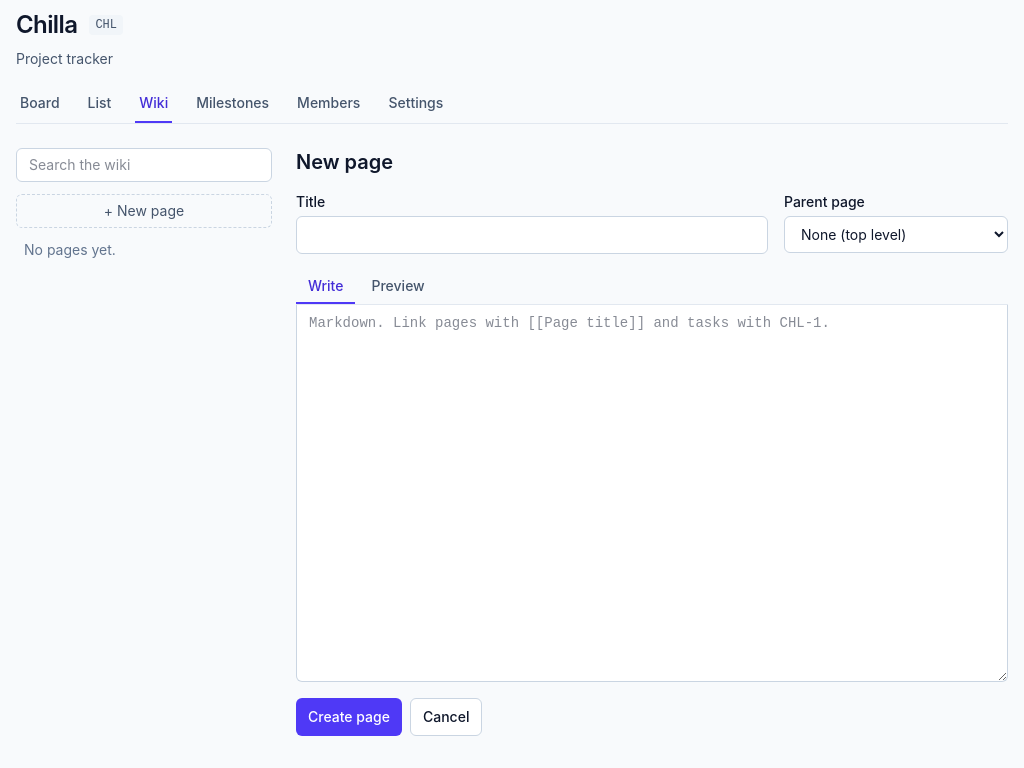
Test: writing mentions › suggests members in the wiki editor and keeps the draft in step
(page scrolled)
Type "Lead: @an" into the text box named "Content" at (652, 494), box [296,305,1008,682]
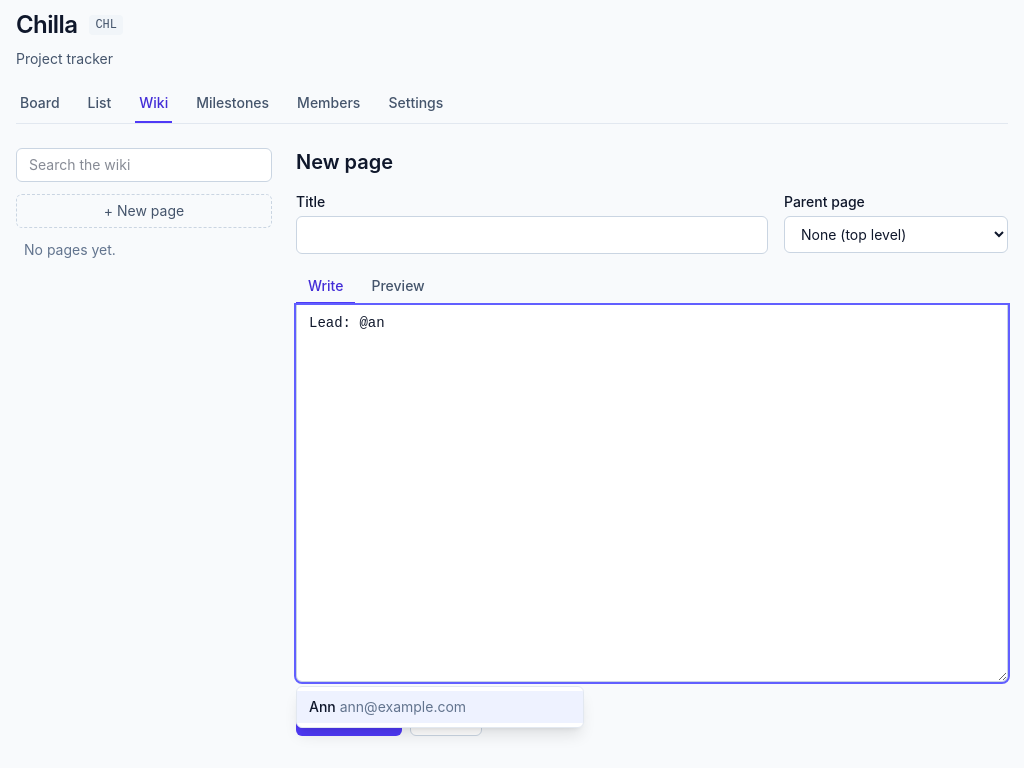
Click the option "Ann ann@example.com" at (440, 707), box [297,691,583,723]
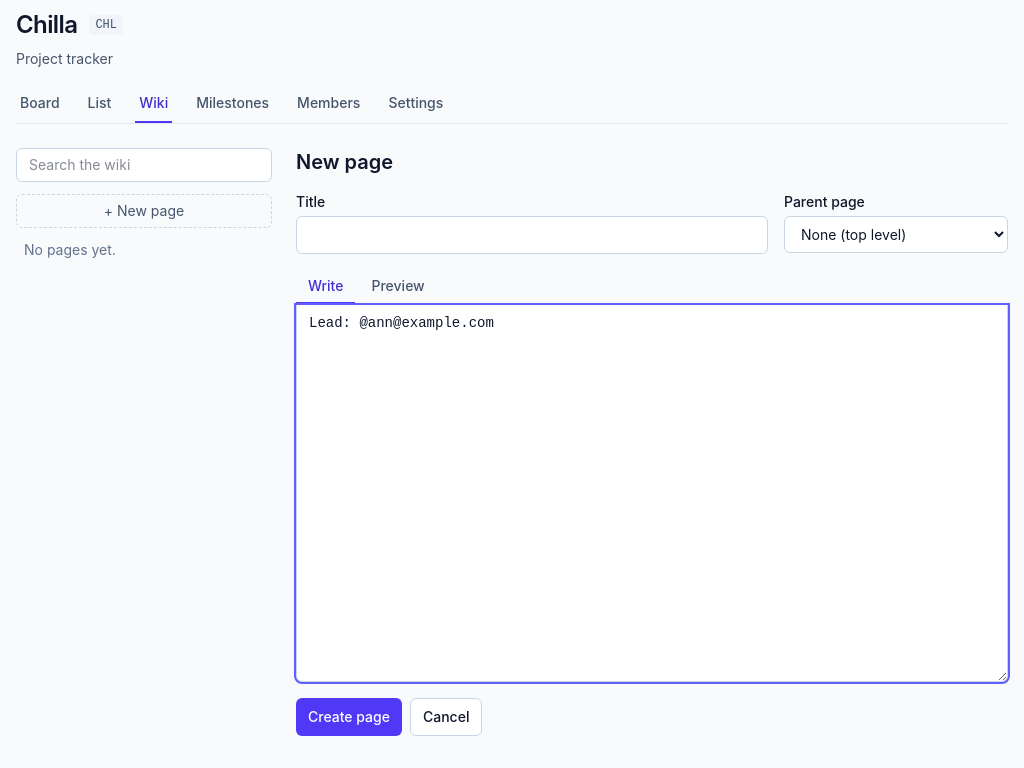
Type "decides" into the text box named "Content" at (652, 494), box [296,305,1008,682]
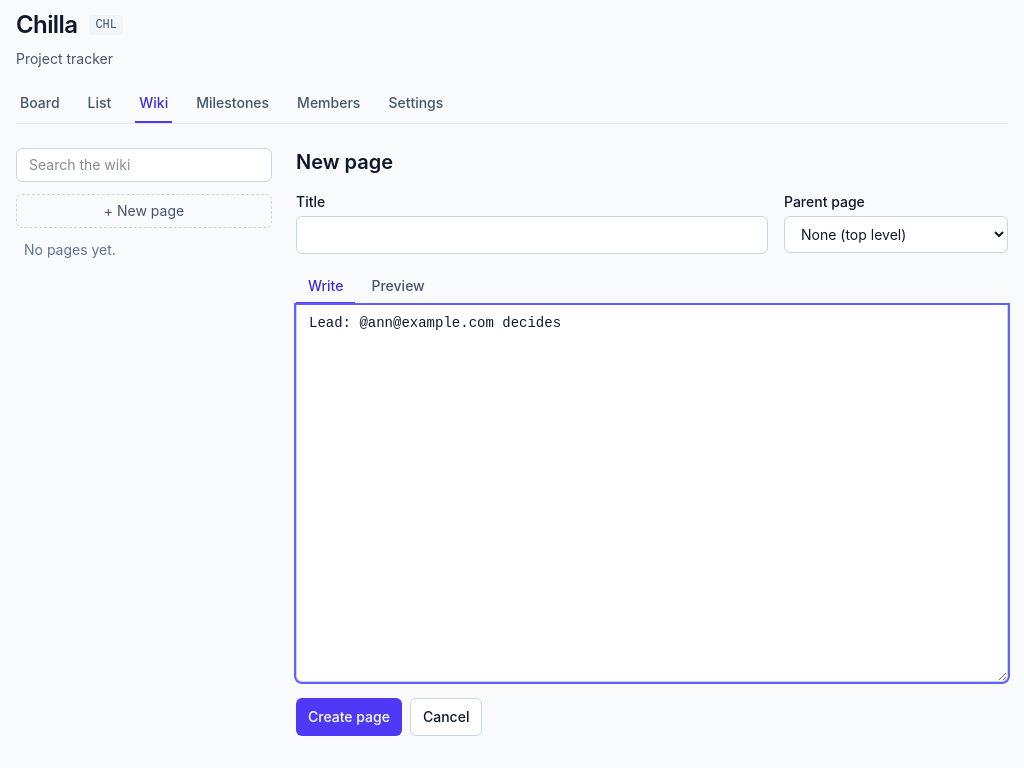
Result: the text box named "Content" holds "Lead: @ann@example.com decides" at [296,305,1008,682]
